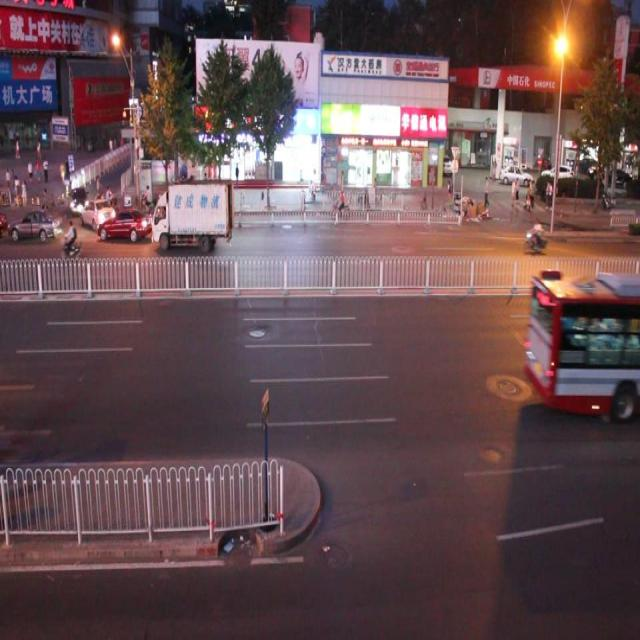bus: (152, 182, 235, 252)
car: (166, 185, 223, 232), (11, 202, 65, 241), (98, 206, 151, 243), (82, 196, 117, 231), (68, 184, 90, 217)
van: (526, 275, 640, 412)
